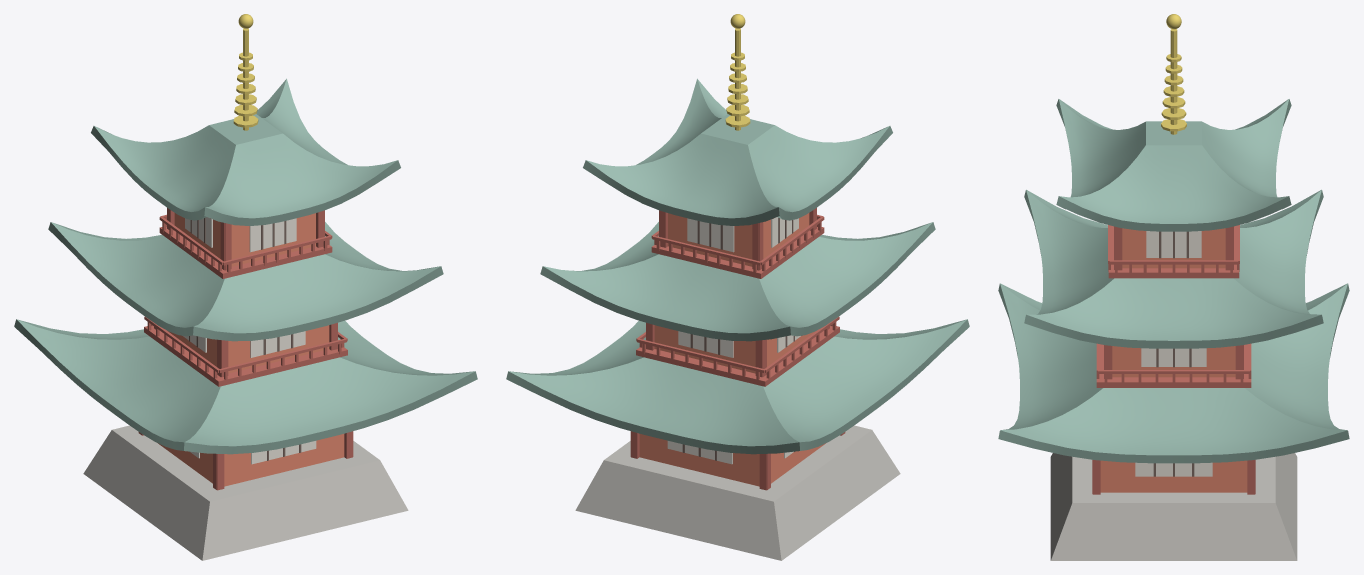
The model's file is temple.glb.
3 renders of one model, left to right at view 1: azimuth 30°, elevation 25°; view 2: azimuth 150°, elevation 25°; view 3: azimuth 270°, elevation 25°, orthographic. The views are drawn at different scales.
Visible parts, largest first — view 1: Temple; view 2: Temple; view 3: Temple.
Part boxes in pixels (box(x1,y1,x2,y2)): Temple: box(14, 14, 477, 560); Temple: box(506, 14, 969, 560); Temple: box(998, 14, 1349, 560).
Bounding box in the file's own units: 2.28 × 3.54 × 2.28.
